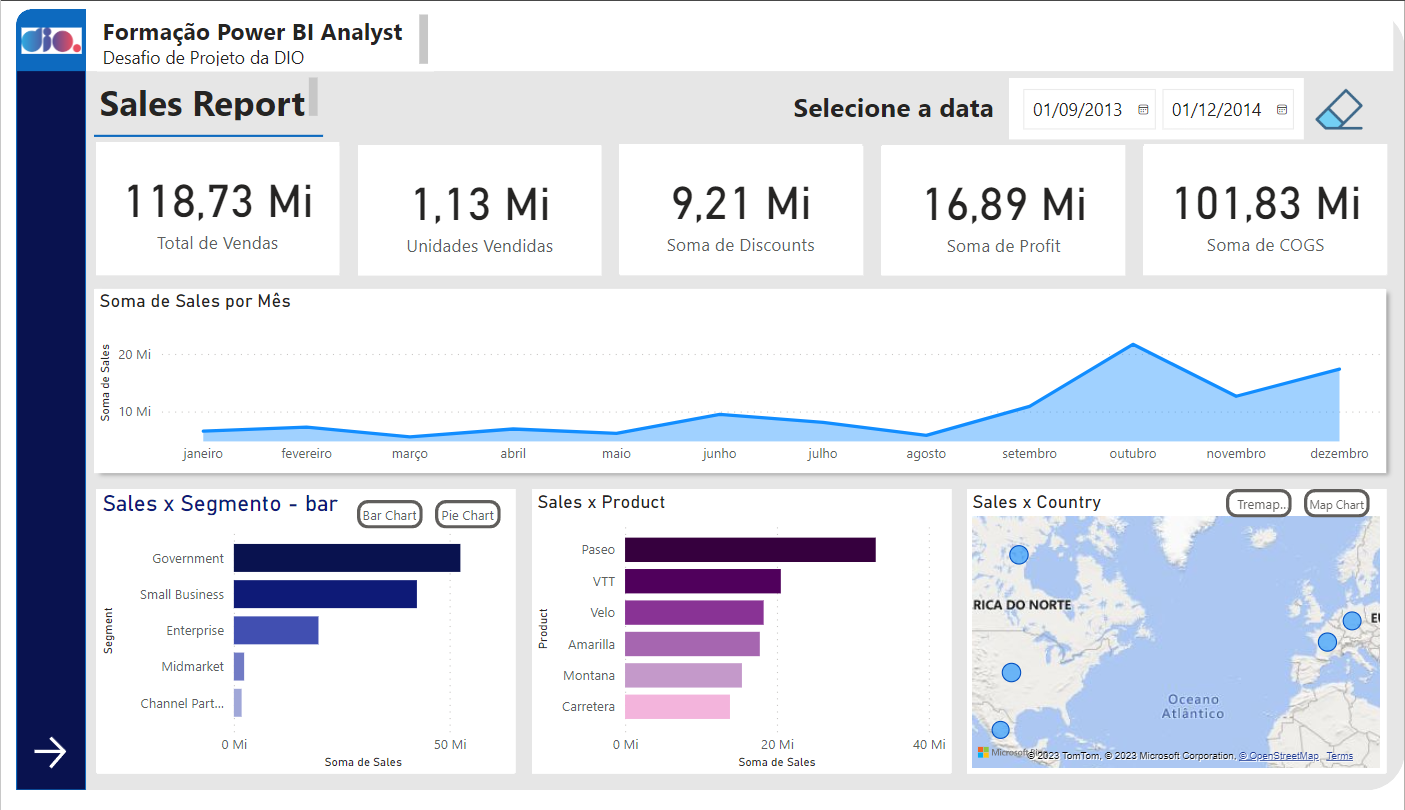

Layout of this report page (visuals, bound fields, positions):
{"tool":"powerbi","page":{"name":"Página 1","canvas":[1280,720],"ordinal":0},"visuals":[{"type":"shape","box":[13.3,8.2,1266.7,711.9],"z":0},{"type":"slicer","fields":{"Values":["financials.Date"]},"box":[919.8,69.8,269,56.2],"z":0,"group":"g5"},{"type":"shape","box":[84.8,113.5,209.3,18.4],"z":0,"group":"g4"},{"type":"shape","box":[86.7,131.9,222.2,118],"z":0,"group":"g1"},{"type":"clusteredBarChart","title":"Sales x Segmento - bar","fields":{"Y":["Sum(financials. Sales)"],"Category":["financials.Segment"]},"box":[87.7,445.7,381.5,259.1],"z":0,"group":"g3"},{"type":"map","title":"Sales x Country","fields":{"Category":["financials.Country"],"Size":["Sum(financials. Sales)"]},"box":[881.2,445.7,382.5,259.1],"z":0,"group":"g2"},{"type":"shape","box":[13.3,8.1,64.3,711.9],"z":1000},{"type":"textbox","box":[717.8,74.6,194.8,44.9],"z":1000,"group":"g5"},{"type":"shape","box":[325.5,131.9,222.2,118],"z":1000,"group":"g1"},{"type":"actionButton","title":"Botão - tremap","box":[1118.3,445,59.6,26.2],"z":1500,"group":"g2"},{"type":"actionButton","title":"Botão - pie","box":[395.7,455.3,59.6,26.2],"z":1500,"group":"g3"},{"type":"shape","box":[13.3,7.1,64.3,57.1],"z":2000},{"type":"textbox","box":[84.8,64.6,209.3,48.9],"z":2000,"group":"g4"},{"type":"shape","box":[564.4,131.9,222.2,118],"z":2000,"group":"g1"},{"type":"actionButton","title":"Botão - map","box":[1188.7,445,59.6,26.2],"z":2000,"group":"g2"},{"type":"actionButton","title":"Botão - bar","box":[325.3,455.3,59.6,26.2],"z":2000,"group":"g3"},{"type":"image","title":"logo_dio","box":[13.3,18.4,65.3,34.7],"z":3000},{"type":"image","title":"clean","box":[1194.2,70.2,52.9,56.2],"z":3000,"group":"g5"},{"type":"shape","box":[1042.1,131.9,222.2,118],"z":3000,"group":"g1"},{"type":"actionButton","box":[1194.2,64.7,69.1,61.6],"z":3500,"group":"g5"},{"type":"shape","box":[77.5,8.2,1193.3,56.1],"z":4000},{"type":"shape","box":[803.2,131.9,222.2,118],"z":4000,"group":"g1"},{"type":"card","fields":{"Values":["Sum(financials.Discounts)"]},"box":[564,130.5,222.3,119.3],"z":5000,"group":"g1"},{"type":"shape","box":[77.5,253.6,1194.2,184.4],"z":5000},{"type":"card","fields":{"Values":["Sum(financials.Profit)"]},"box":[803.7,131.6,222.3,119.3],"z":6000,"group":"g1"},{"type":"shape","box":[86.7,445.4,382.7,259.1],"z":6000},{"type":"card","fields":{"Values":["Sum(financials.Units Sold)"]},"box":[325.4,131.6,222.3,119.3],"z":7000,"group":"g1"},{"type":"shape","box":[881.6,445.4,382.7,259.1],"z":7000},{"type":"card","fields":{"Values":["Sum(financials. Sales)"]},"box":[86.7,128.5,222.3,119.3],"z":8000,"group":"g1"},{"type":"shape","box":[484.1,445.4,382.7,259.1],"z":8000},{"type":"textbox","box":[87.7,7.1,307,57.1],"z":9000},{"type":"card","fields":{"Values":["Sum(financials.COGS)"]},"box":[1042.4,130.5,222.3,119.3],"z":9000,"group":"g1"},{"type":"group","id":"g1","title":"Cartões","box":[86.7,128.5,1178,122.4],"z":10000},{"type":"areaChart","fields":{"Category":["financials.Date.Variation.Hierarquia de datas.Mês"],"Y":["Sum(financials. Sales)"]},"box":[84.7,263.1,1179,168.3],"z":11000},{"type":"clusteredBarChart","title":"Sales x Product","fields":{"Y":["Sum(financials. Sales)"],"Category":["financials.Product"]},"box":[484.5,445.7,382.5,259.1],"z":12000},{"type":"group","id":"g2","title":"Sales x País","box":[880.7,445,382.9,260.5],"z":14000},{"type":"group","id":"g3","title":"Sales x Segment","box":[87.7,445.7,381.9,259.1],"z":15000},{"type":"group","id":"g4","title":"Title Report","box":[84.8,64.6,209.3,67.3],"z":16000},{"type":"group","id":"g5","title":"Filtro por data","box":[717.8,64.7,545.4,61.8],"z":16500},{"type":"actionButton","box":[25,665,39.3,40.5],"z":17000}]}

Visuals, with their boxes on the page's 1280x720 design canvas (x1, y1, x2, y2). These are canvas units, not pixel positions in the 1405x810 screenshot, which may show the page scaled, cropped or inside an application window:
shape: Rect(13, 8, 1280, 720)
slicer - financials.Date: Rect(920, 70, 1189, 126)
shape: Rect(85, 114, 294, 132)
shape: Rect(87, 132, 309, 250)
"Sales x Segmento - bar" clusteredBarChart: Rect(88, 446, 469, 705)
"Sales x Country" map: Rect(881, 446, 1264, 705)
shape: Rect(13, 8, 78, 720)
textbox: Rect(718, 75, 913, 120)
shape: Rect(326, 132, 548, 250)
"Botão - tremap" actionButton: Rect(1118, 445, 1178, 471)
"Botão - pie" actionButton: Rect(396, 455, 455, 482)
shape: Rect(13, 7, 78, 64)
textbox: Rect(85, 65, 294, 114)
shape: Rect(564, 132, 787, 250)
"Botão - map" actionButton: Rect(1189, 445, 1248, 471)
"Botão - bar" actionButton: Rect(325, 455, 385, 482)
"logo_dio" image: Rect(13, 18, 79, 53)
"clean" image: Rect(1194, 70, 1247, 126)
shape: Rect(1042, 132, 1264, 250)
actionButton: Rect(1194, 65, 1263, 126)
shape: Rect(78, 8, 1271, 64)
shape: Rect(803, 132, 1025, 250)
card - Sum(financials.Discounts): Rect(564, 130, 786, 250)
shape: Rect(78, 254, 1272, 438)
card - Sum(financials.Profit): Rect(804, 132, 1026, 251)
shape: Rect(87, 445, 469, 704)
card - Sum(financials.Units Sold): Rect(325, 132, 548, 251)
shape: Rect(882, 445, 1264, 704)
card - Sum(financials. Sales): Rect(87, 128, 309, 248)
shape: Rect(484, 445, 867, 704)
textbox: Rect(88, 7, 395, 64)
card - Sum(financials.COGS): Rect(1042, 130, 1265, 250)
"Cartões" group: Rect(87, 128, 1265, 251)
areaChart - financials.Date.Variation.Hierarquia de datas.Mês x Sum(financials. Sales): Rect(85, 263, 1264, 431)
"Sales x Product" clusteredBarChart: Rect(484, 446, 867, 705)
"Sales x País" group: Rect(881, 445, 1264, 706)
"Sales x Segment" group: Rect(88, 446, 470, 705)
"Title Report" group: Rect(85, 65, 294, 132)
"Filtro por data" group: Rect(718, 65, 1263, 126)
actionButton: Rect(25, 665, 64, 706)
